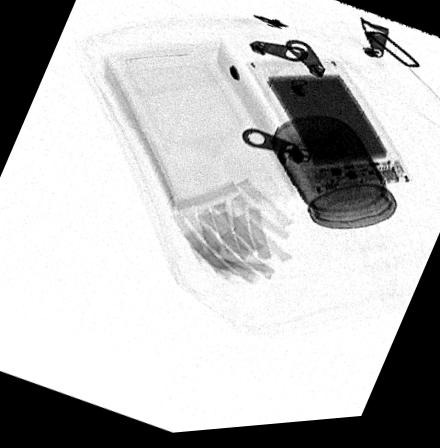Powerbank: (245, 66, 415, 201)
